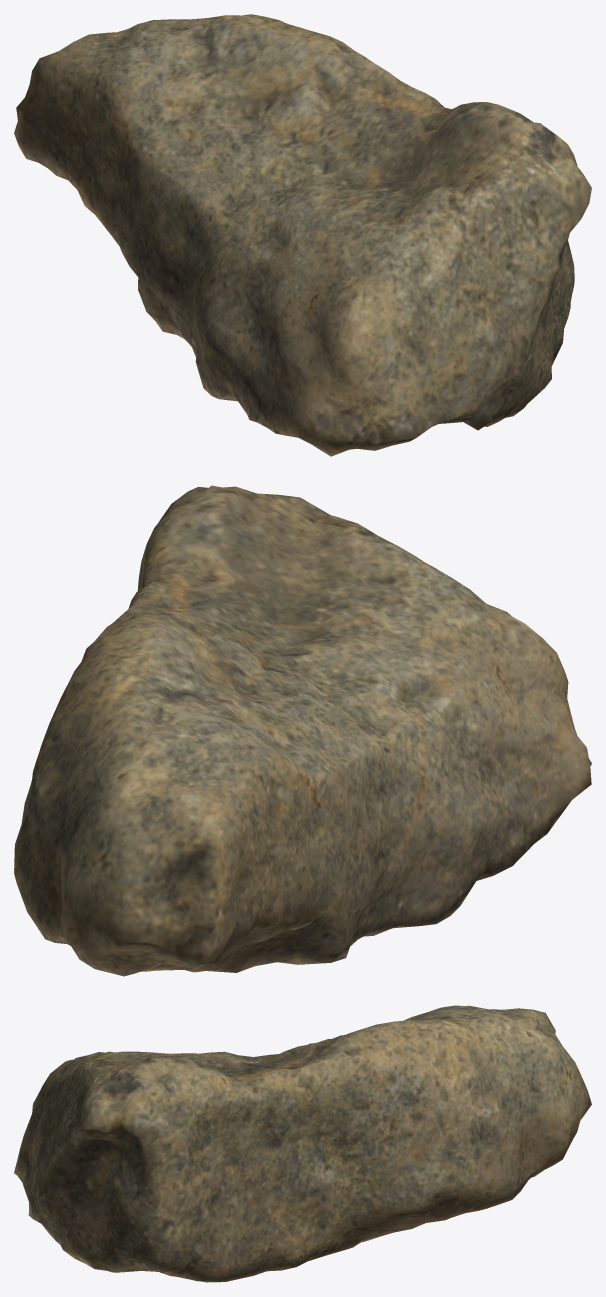
Rendered from Rock2.glb.
The picture shows the model from 3 angles, top to bottom: view 1: azimuth 30°, elevation 25°; view 2: azimuth 150°, elevation 25°; view 3: azimuth 270°, elevation 25°; orthographic projection. The views are drawn at different scales.
Parts seen in each view (by area): view 1: Object_5; view 2: Object_5; view 3: Object_5.
Boxes of the visible parts, box(x1,y1,x2,y2) form: Object_5: box(14, 14, 591, 456); Object_5: box(14, 485, 591, 976); Object_5: box(14, 1005, 591, 1282).
Bounding box in the file's own units: 0.5306 × 0.4077 × 0.967.
Materials: 1 (1 with a texture image).
